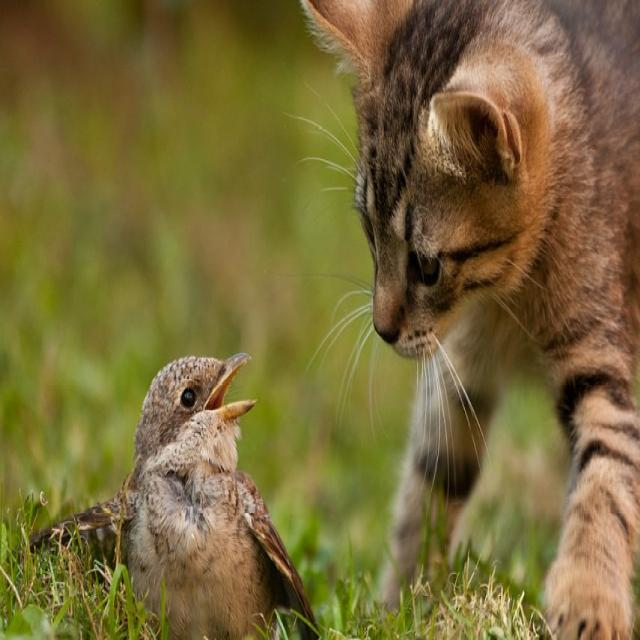brid: (79, 336, 300, 627)
cat: (322, 3, 640, 637)
